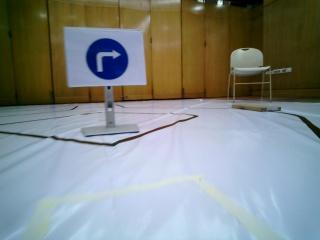right: (67, 31, 143, 84)
